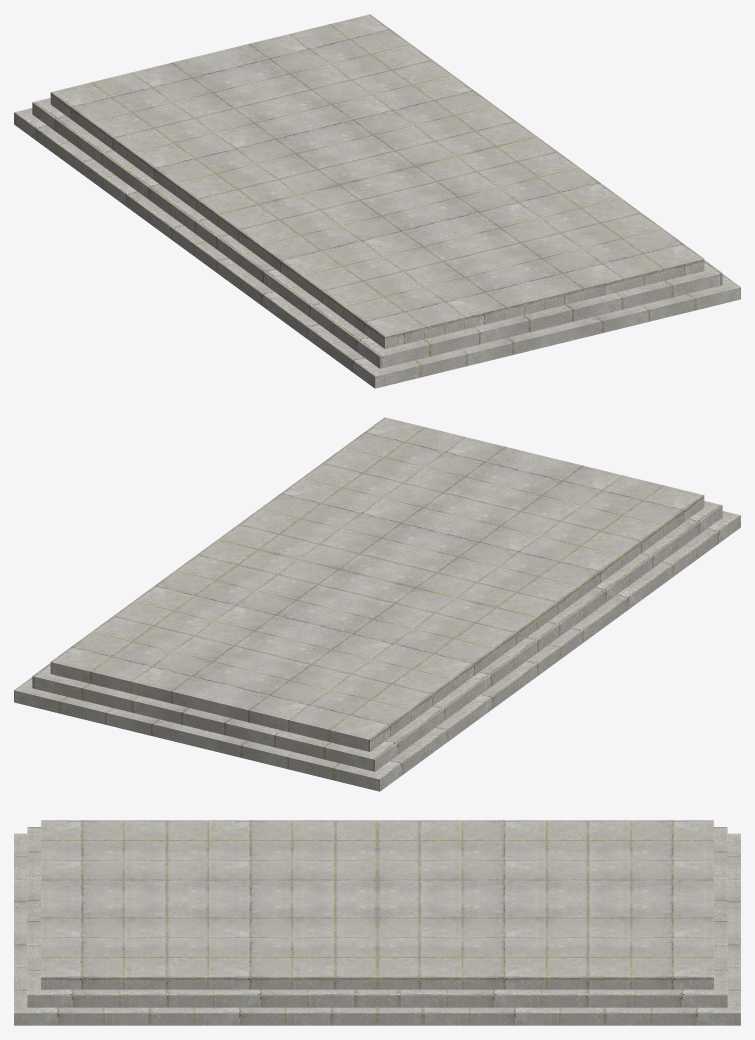
The model's file is temple_foundation.dae.
3 renders of one model, top to bottom at view 1: azimuth 30°, elevation 25°; view 2: azimuth 150°, elevation 25°; view 3: azimuth 270°, elevation 25°, orthographic.
Visible parts, largest first — view 1: temple_foundation; view 2: temple_foundation; view 3: temple_foundation.
Boxes of the visible parts, x1,y1,x2,y2 form: temple_foundation: [14, 14, 740, 388]; temple_foundation: [14, 417, 740, 791]; temple_foundation: [14, 820, 740, 1025].
Size of the model in its own units: 16.93 by 28.92 by 1.61.
